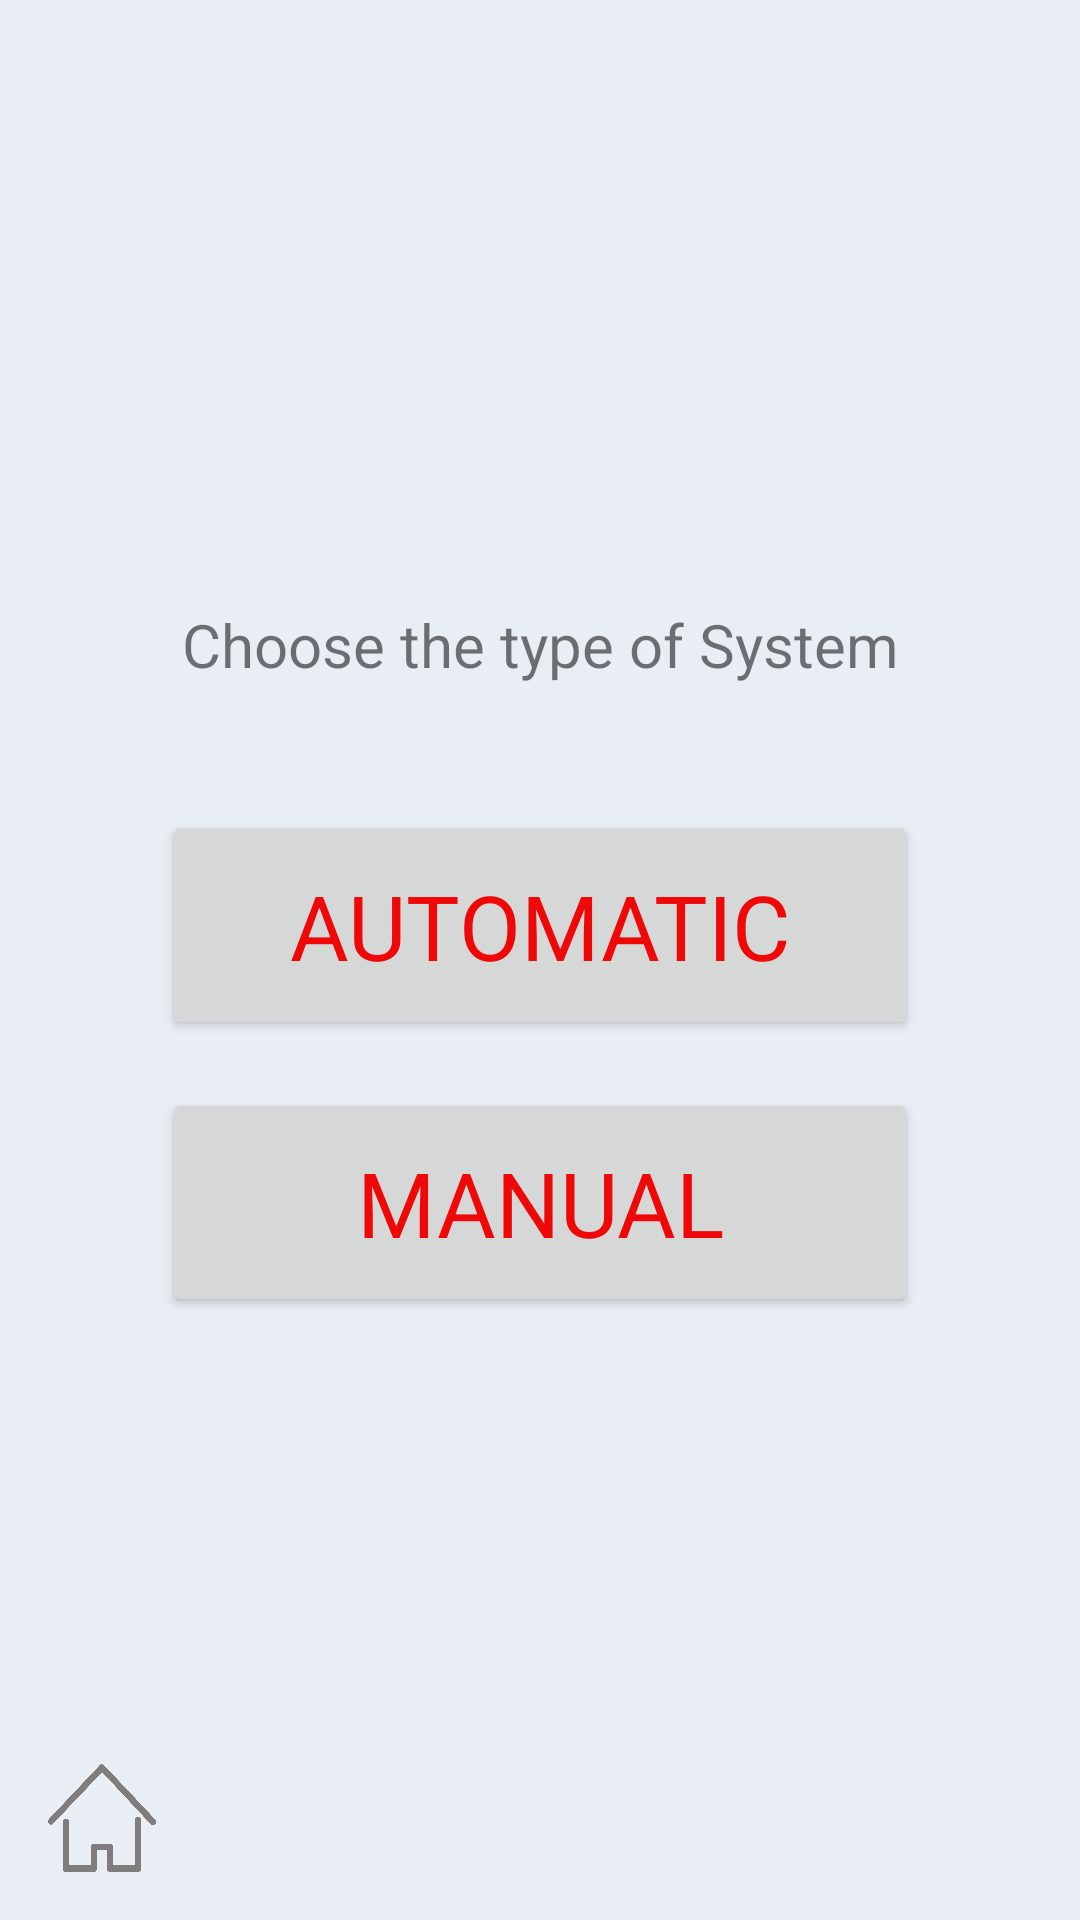

Icons on this 1080*1920 Android screen, each with its box as rect(x1, y1, x2, y2):
home: rect(48, 1764, 156, 1872)
